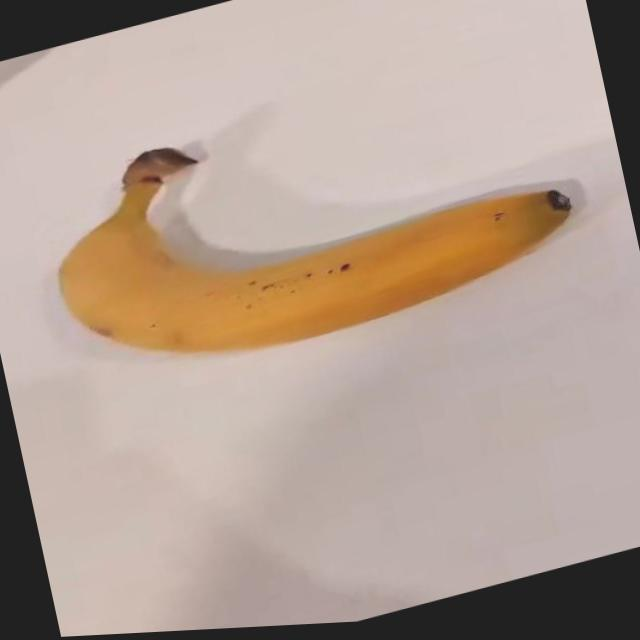Banana: (43, 100, 589, 403)
